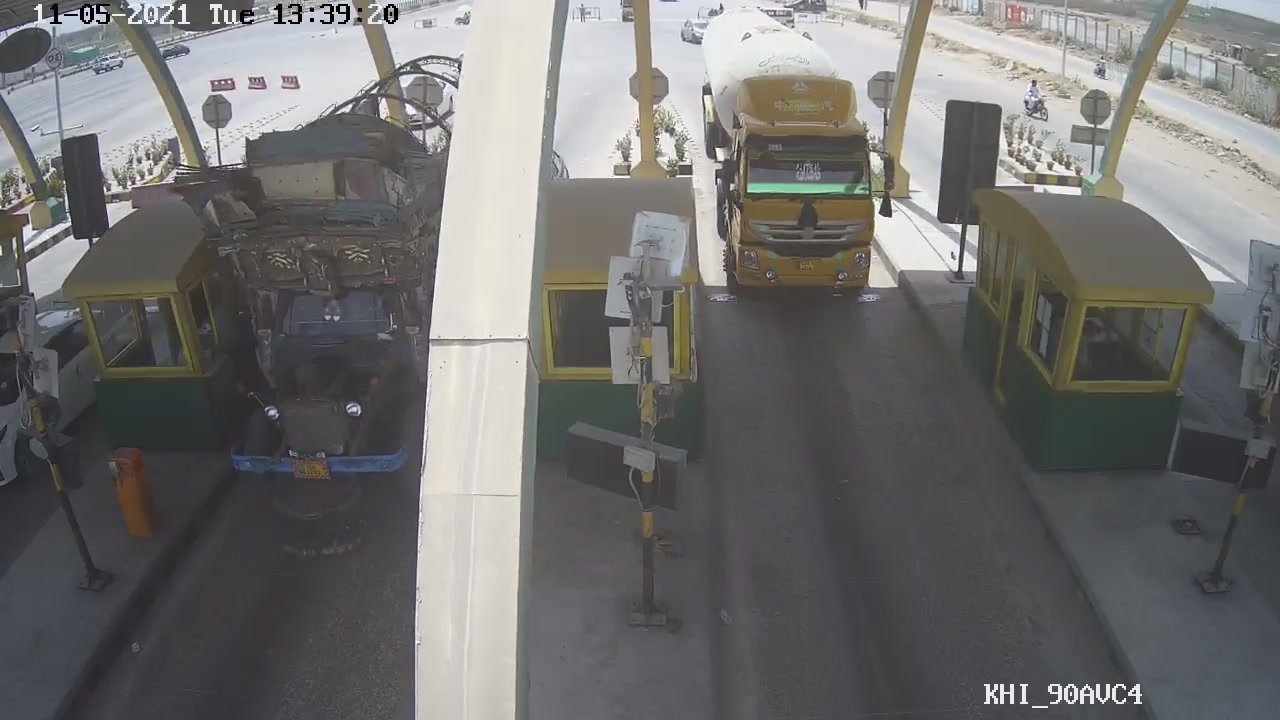F6: (695, 38, 899, 301)
